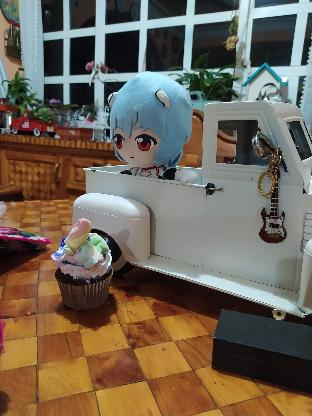rei-plush: (94, 66, 188, 180)
